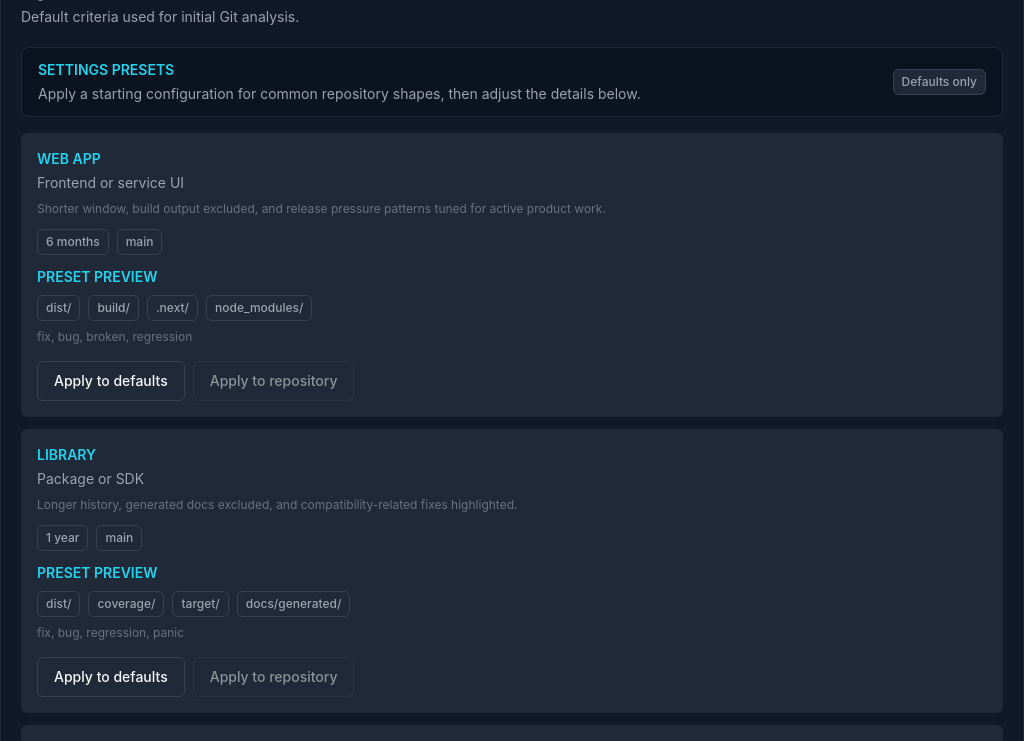
Test: SettingsPage › applies a preset to the global defaults
The width and height of the screenshot is (1024, 741).
(page scrolled)
What coordinates should you click on to do the following:
click the button "Apply to defaults" below "fix, bug, broken, regression"
I would click on:
 (111, 381)
Its box is 37,361 -> 185,401.
(page scrolled)
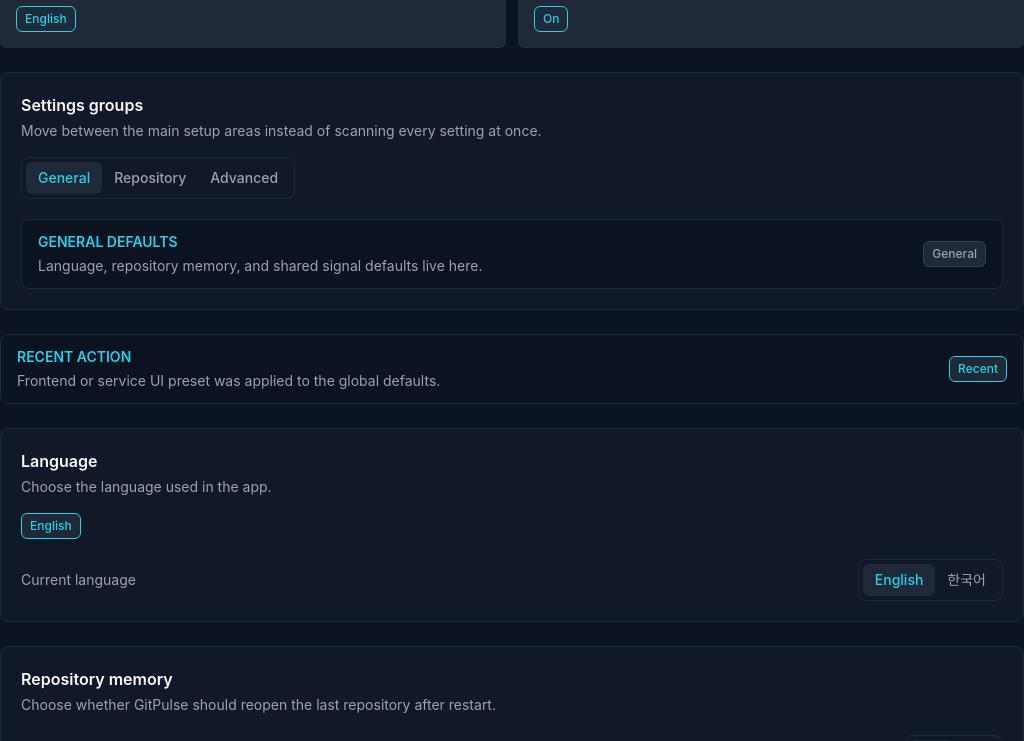
expect the text "Frontend or service UI preset was applied to the global defaults." is shown: met, box 17,371 -> 440,391
